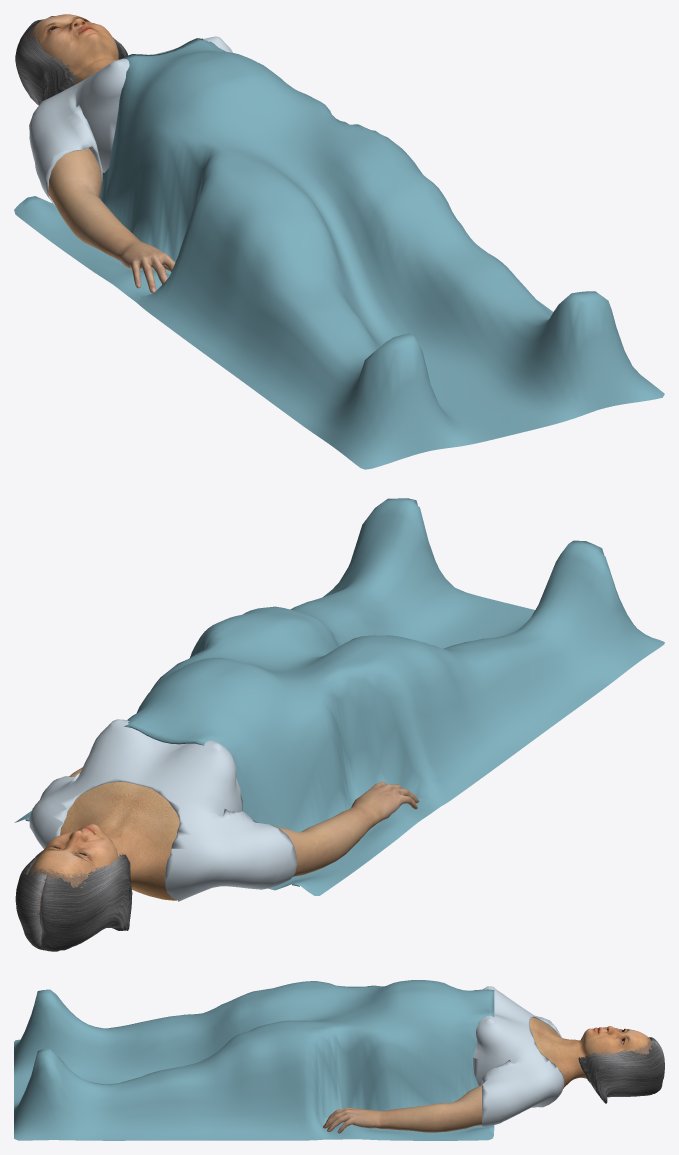
3 renders of one model, top to bottom at view 1: azimuth 30°, elevation 25°; view 2: azimuth 150°, elevation 25°; view 3: azimuth 270°, elevation 25°, orthographic. The views are drawn at different scales.
Visible parts, largest first — view 1: sheet, gown, arms, body, hair; view 2: sheet, gown, body, hair, arms; view 3: sheet, gown, arms, hair, body.
Part boxes in pixels (bbox=[...]): sheet: bbox=[14, 38, 664, 469]; gown: bbox=[29, 36, 232, 205]; arms: bbox=[47, 148, 175, 293]; body: bbox=[27, 14, 118, 84]; hair: bbox=[15, 16, 127, 105]; sheet: bbox=[14, 498, 664, 895]; gown: bbox=[29, 719, 296, 901]; body: bbox=[28, 782, 179, 926]; hair: bbox=[15, 850, 132, 951]; arms: bbox=[69, 767, 419, 876]; sheet: bbox=[14, 980, 494, 1140]; gown: bbox=[473, 986, 564, 1126]; arms: bbox=[323, 1084, 482, 1133]; hair: bbox=[578, 1037, 664, 1103]; body: bbox=[529, 1017, 651, 1088].
Bounding box in the file's own units: 0.6377 × 0.3067 × 1.73.
8 materials, 6 textured.
